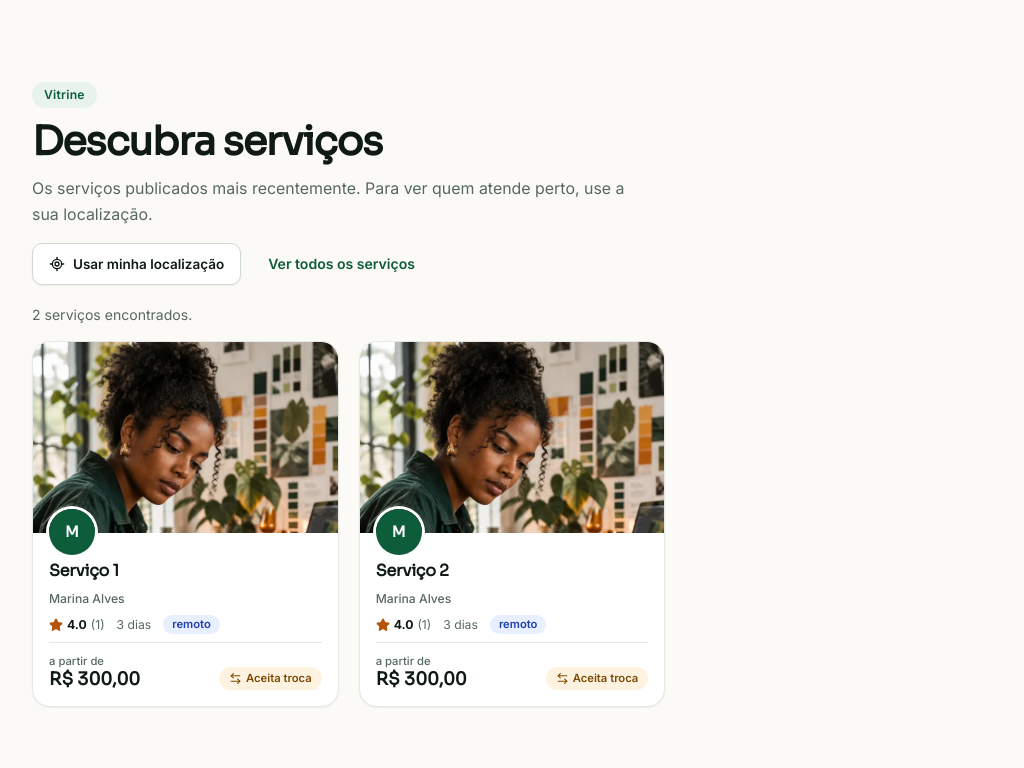
Test: Showcase › localização no clique: ordena por distância num raio fixo e pode ser tirada
This screenshot has width=1024, height=768.
Expected: the message with test id "vitrine-status" reads "2 serviços encontrados.", [32,306,192,323]
Click the button "Usar minha localização". click: (137, 264)
box: [32,243,241,285]
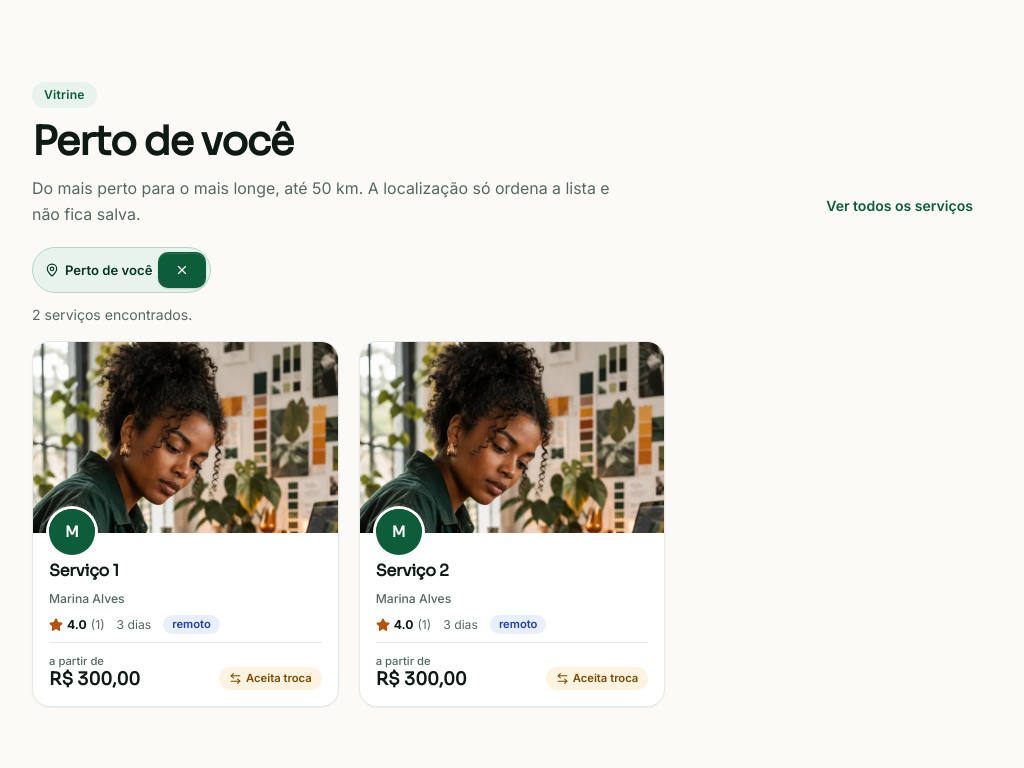
Now the heading "Perto de você" is shown, box [32,116,293,167]
Now the button "Usar minha localização" is gone
Click the button named "Tirar a localização". click: (182, 270)
box: [158,252,206,288]
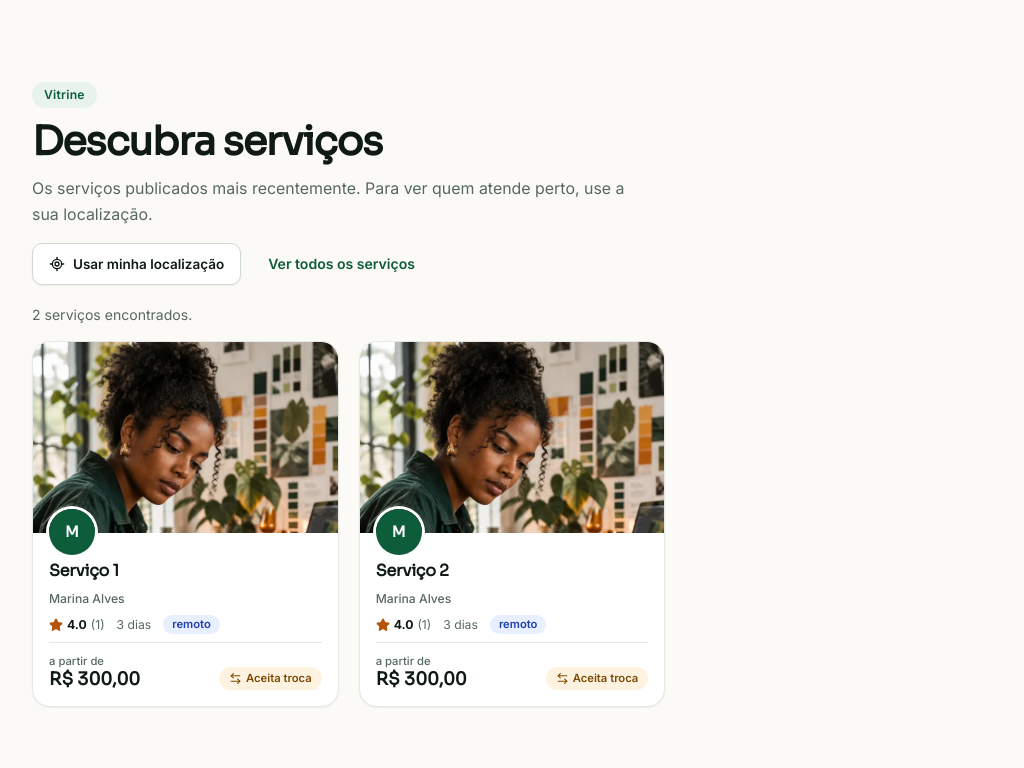
Now the heading "Descubra serviços" is shown, box [32,116,382,167]
